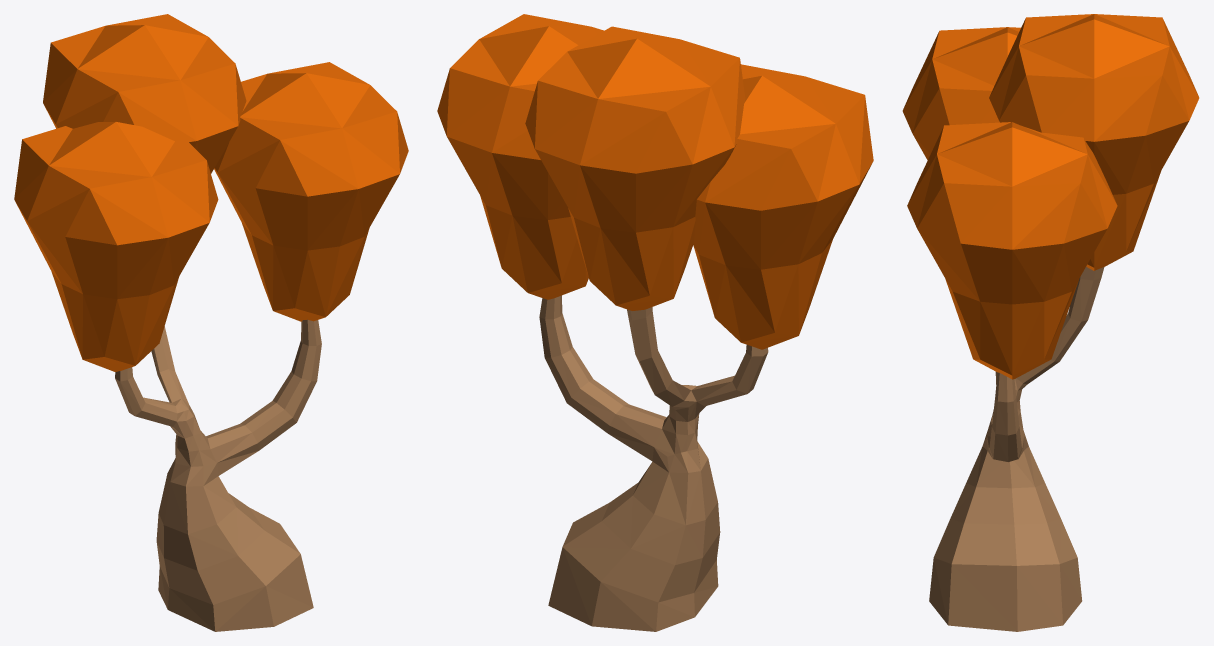
File: tree_color_01a.fbx
The picture shows the model from 3 angles, left to right: view 1: azimuth 30°, elevation 25°; view 2: azimuth 150°, elevation 25°; view 3: azimuth 270°, elevation 25°; orthographic projection. The views are drawn at different scales.
Visible parts, largest first — view 1: tree_color_01; view 2: tree_color_01; view 3: tree_color_01.
Boxes of the visible parts, x1,y1,x2,y2 form: tree_color_01: (14, 14, 408, 631); tree_color_01: (437, 14, 873, 631); tree_color_01: (902, 14, 1199, 631).
Size of the model in its own units: 6.7 by 9.55 by 4.6.
